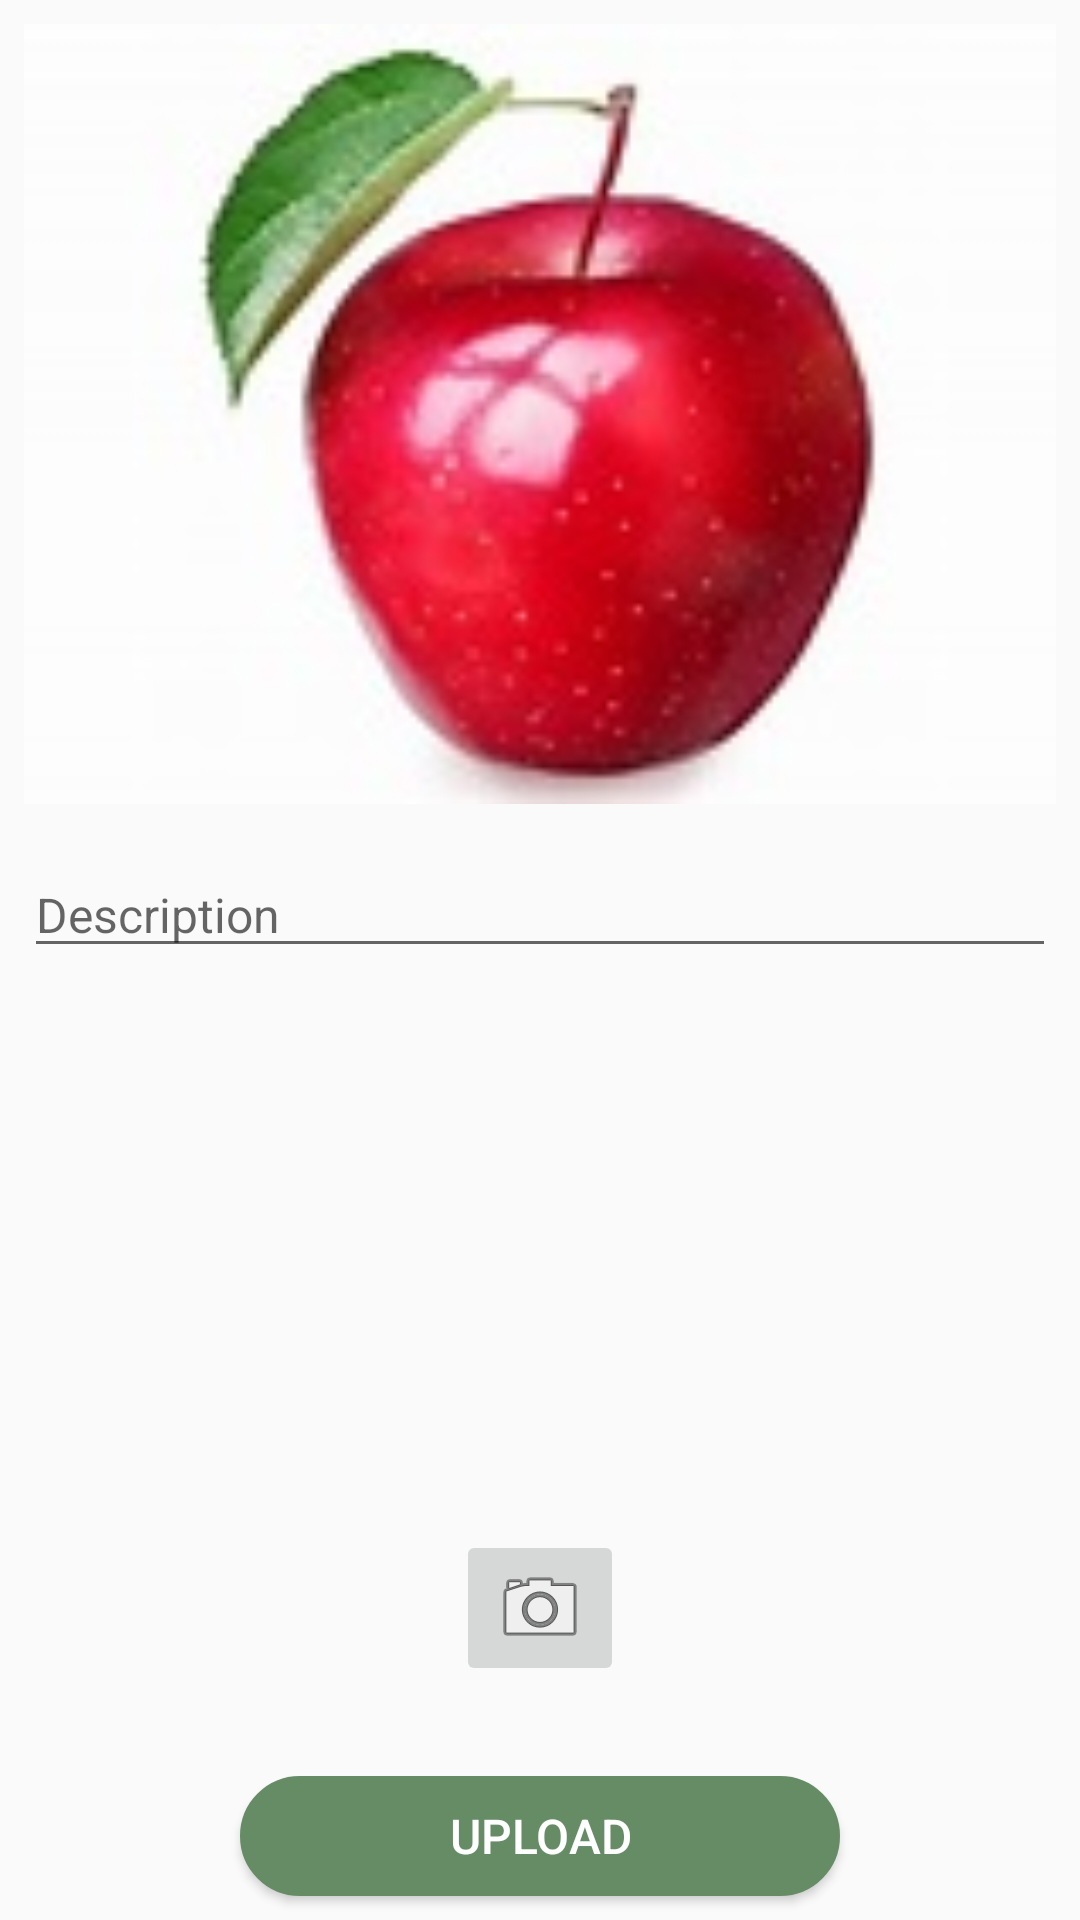

Icons on this 1080x1920 Android screen, each with its box as [x1, y1, x2, y2]:
camera: [468, 1548, 612, 1668]
